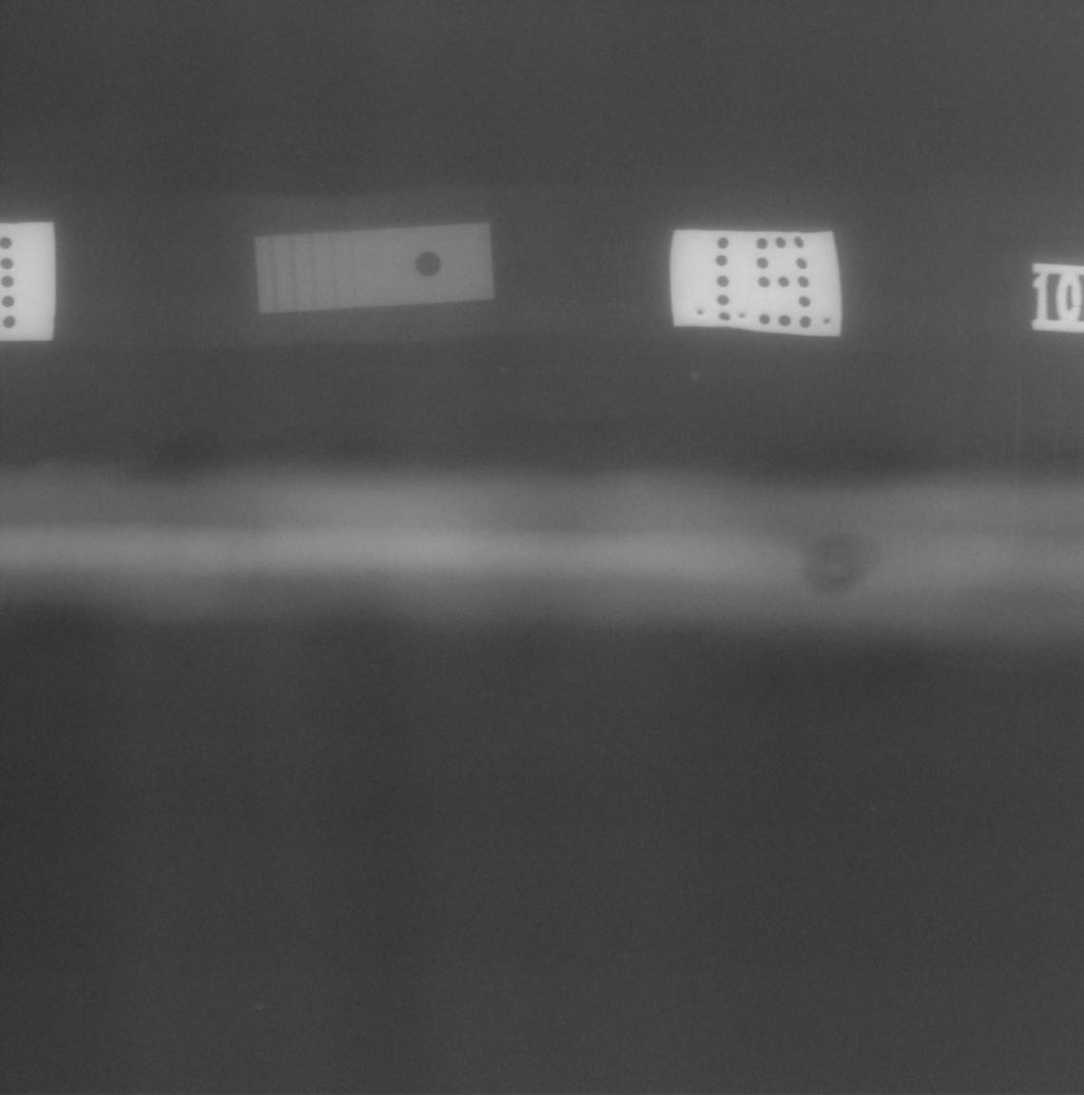Reference Standard 1: (255, 222, 495, 315)
Shrinkage Depression: (801, 531, 876, 590)
